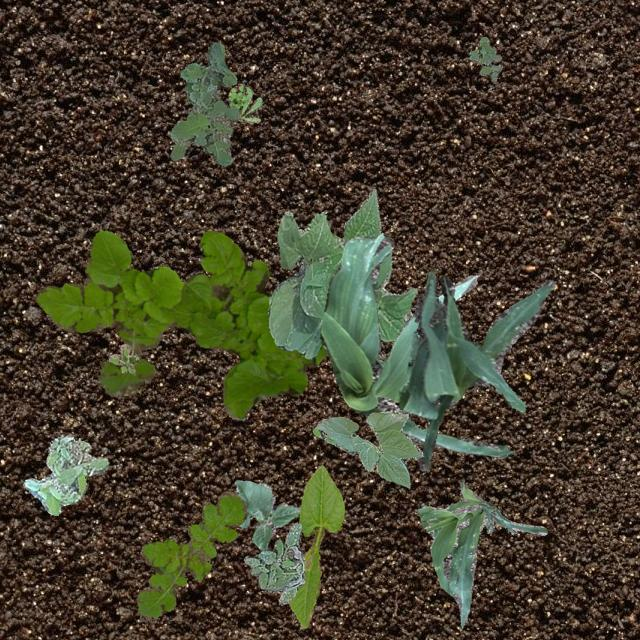crop: (318, 233, 512, 457), (398, 272, 554, 470), (268, 188, 417, 358), (416, 481, 546, 626), (288, 464, 344, 626), (312, 409, 422, 486), (233, 478, 300, 550)
weed: (34, 230, 326, 420), (137, 490, 246, 618), (170, 42, 240, 165), (22, 434, 108, 514), (242, 522, 304, 604), (468, 36, 502, 81), (228, 84, 260, 122), (108, 342, 138, 373)
